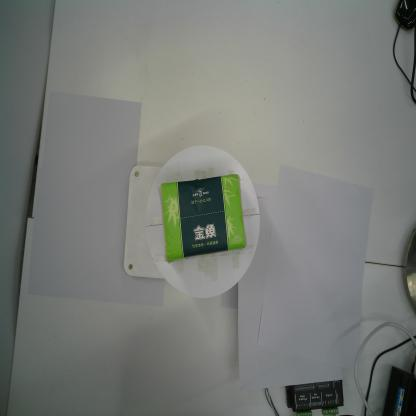Tissue: (160, 174, 248, 266)
